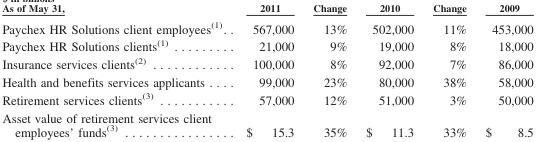table: (1, 1, 532, 138)
table column: (1, 1, 235, 138), (235, 1, 303, 138), (355, 1, 422, 138), (475, 1, 532, 138), (422, 1, 475, 138), (303, 1, 355, 138)
table column header: (1, 1, 532, 16)
table row: (1, 108, 532, 138), (1, 16, 532, 36), (1, 89, 532, 108), (1, 36, 532, 54), (1, 54, 532, 72), (1, 72, 532, 89), (1, 1, 532, 16)
